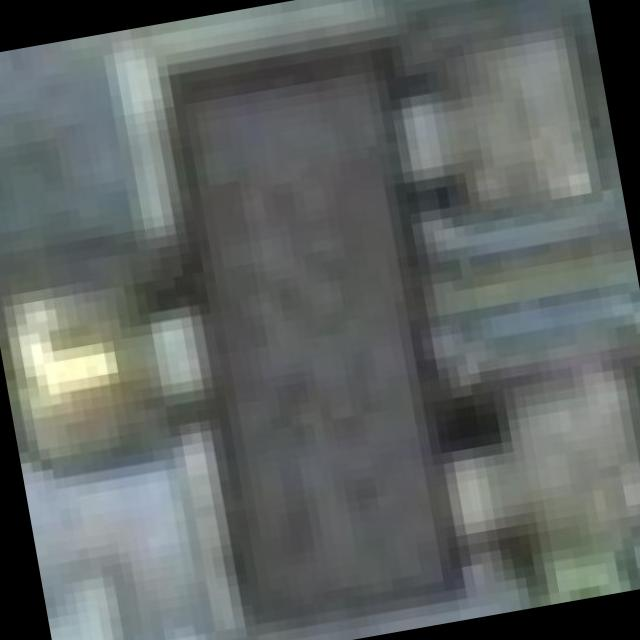transistor: (67, 0, 531, 630)
